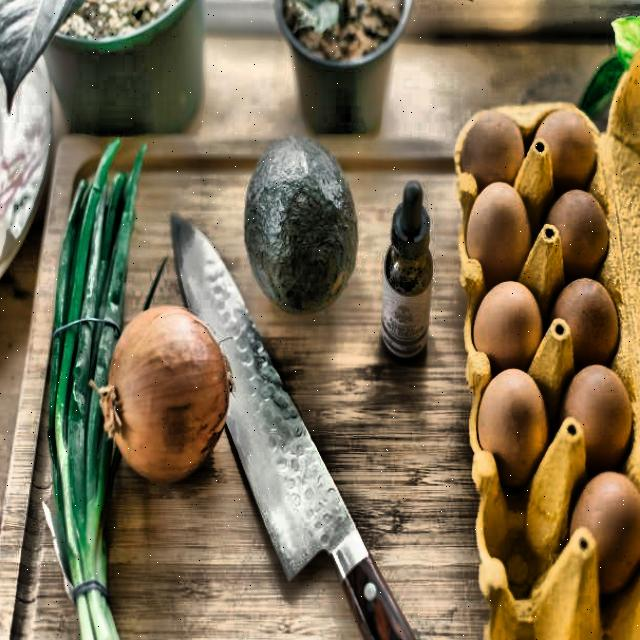knife: (170, 200, 431, 640)
